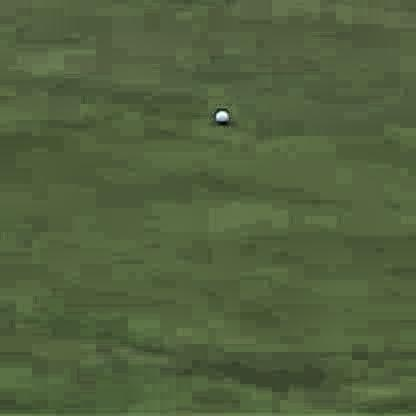golfball: (211, 105, 229, 123)
